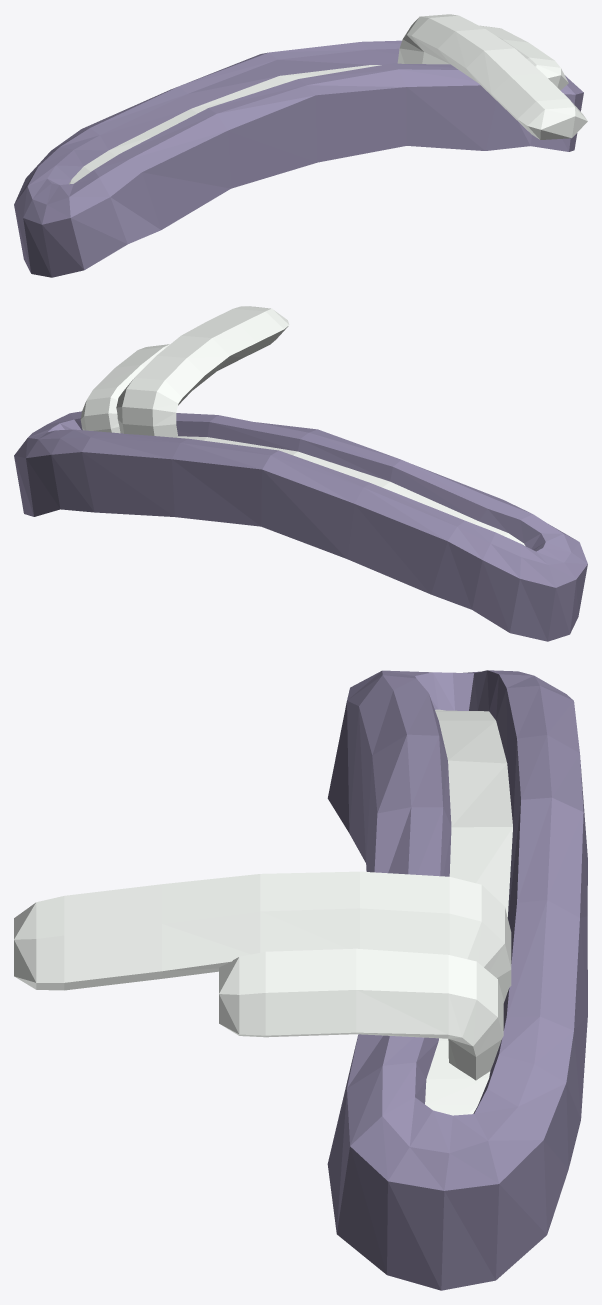
The model's file is BR_Gloom-Shiny02.obj.
The picture shows the model from 3 angles, top to bottom: view 1: azimuth 30°, elevation 25°; view 2: azimuth 150°, elevation 25°; view 3: azimuth 270°, elevation 25°; orthographic projection. The views are drawn at different scales.
Visible parts, largest first — view 1: kusaihana; view 2: kusaihana; view 3: kusaihana.
Boxes of the visible parts, bbox=[...] form: kusaihana: bbox=[14, 14, 587, 277]; kusaihana: bbox=[14, 306, 587, 641]; kusaihana: bbox=[14, 670, 587, 1290].
Bounding box in the file's own units: 2.48 × 0.6913 × 1.2.
